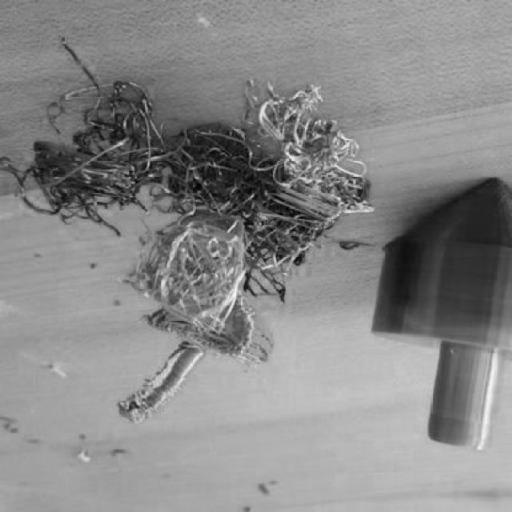spaghetti_and_stringing: (0, 37, 379, 308), (142, 304, 274, 370)
